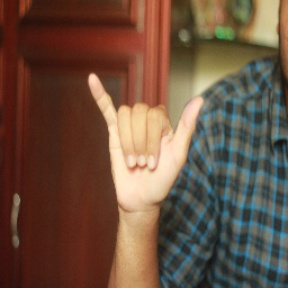J: (85, 66, 209, 209)
